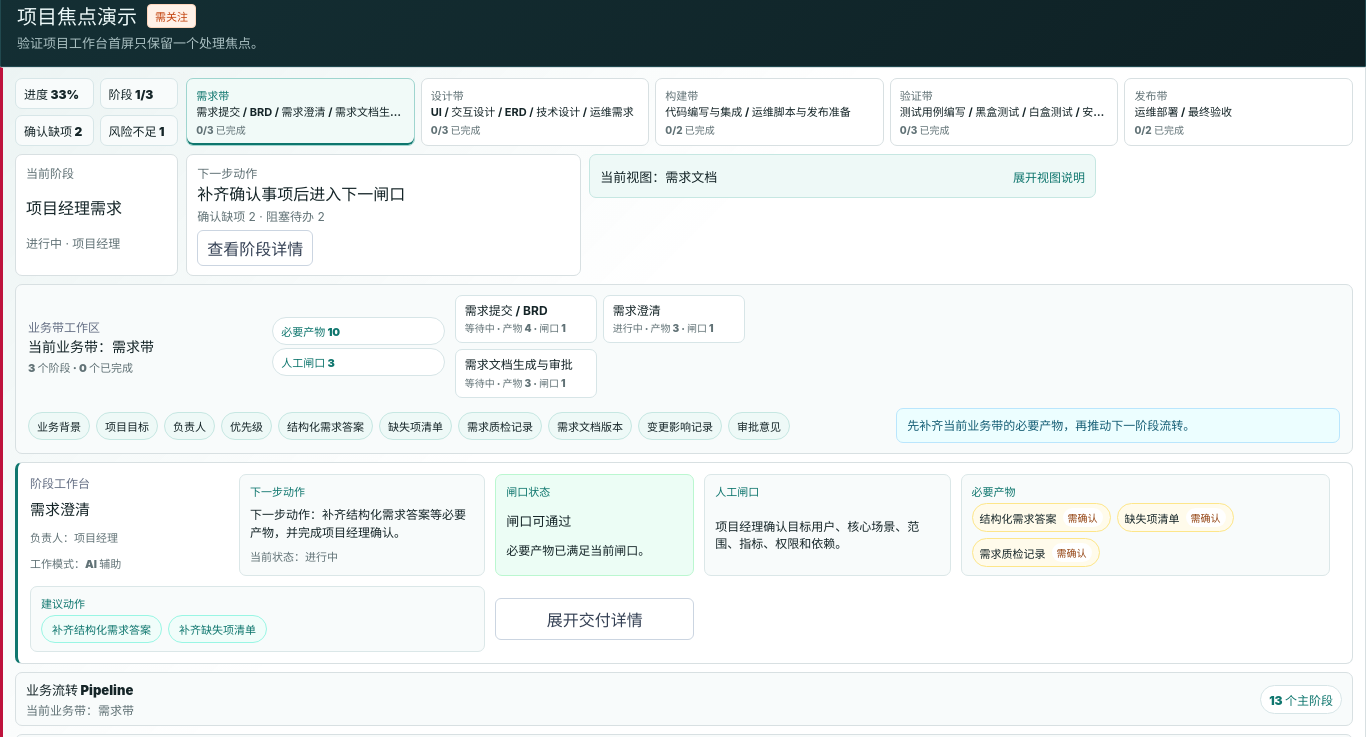
Test: ProjectWorkspace › combines project status, stage action, and view guidance into one focus panel
This screenshot has width=1366, height=737.
Check: the text "当前阶段" is shown, box left=26, top=166, right=74, bottom=181
Check: the text "项目经理需求" is shown, box left=26, top=198, right=122, bottom=218
Click the text "展开视图说明". click: [1049, 176]
box: left=1013, top=168, right=1085, bottom=185
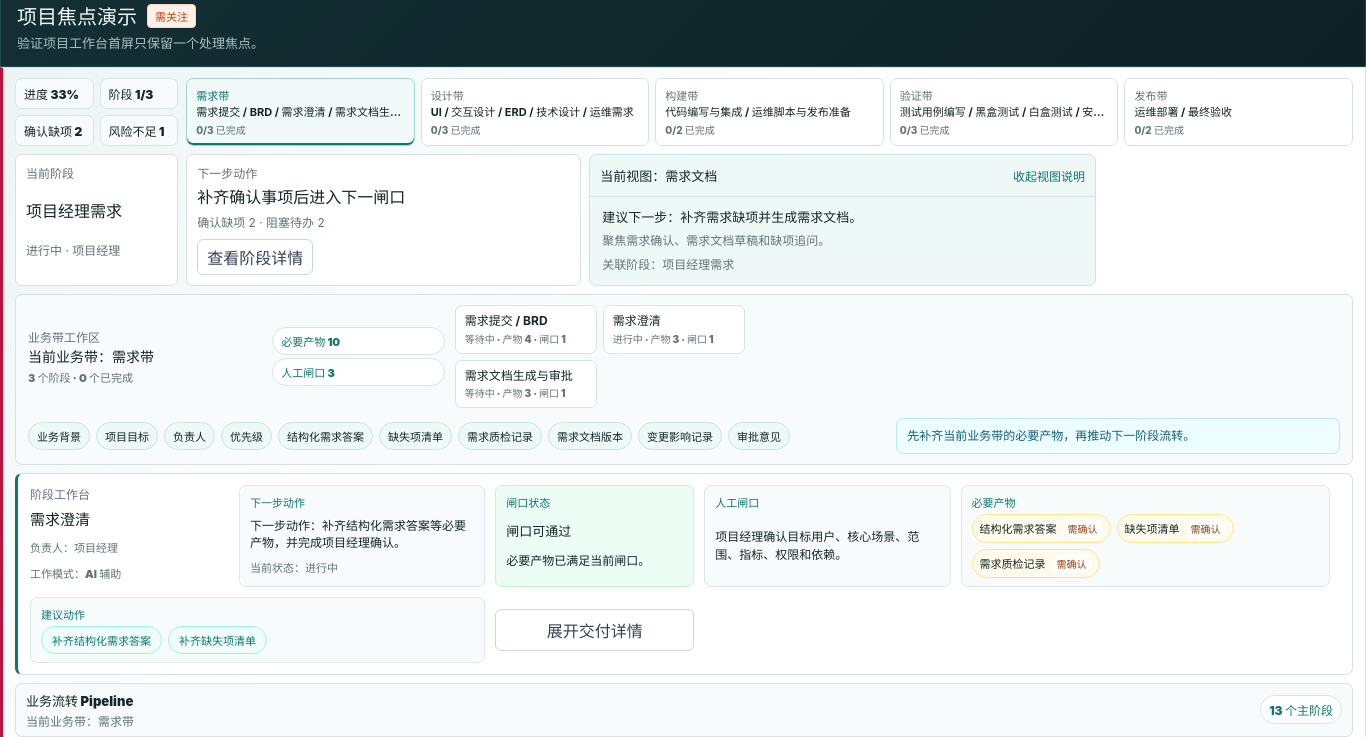
Check: the field labelled "阶段交付详情" is not shown
Check: the text "聚焦需求确认、需求文档草稿和缺项追问。" is shown, box left=602, top=233, right=830, bottom=248
Click the button "查看阶段详情". click: [255, 257]
box: left=197, top=239, right=313, bottom=275
(page scrolled)
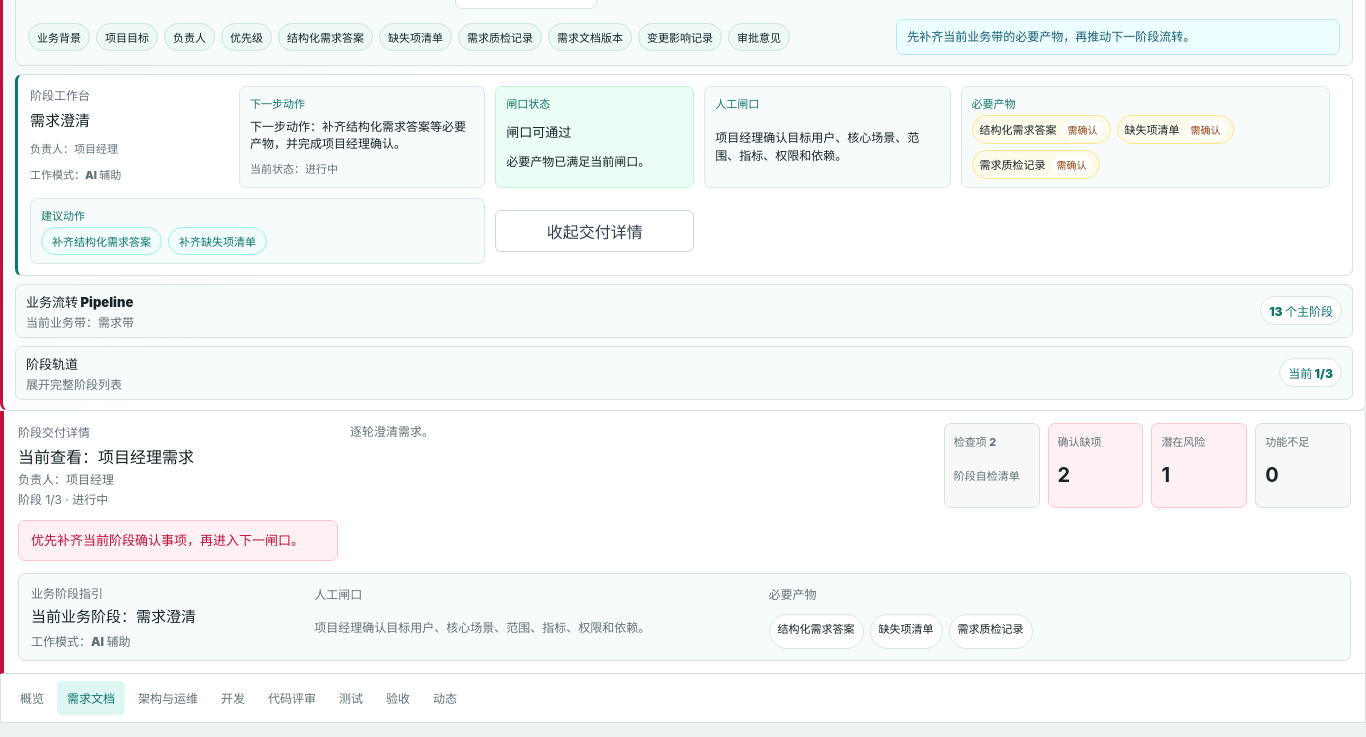
Check: the element labelled "阶段交付详情" is shown, box left=0, top=411, right=1365, bottom=674
